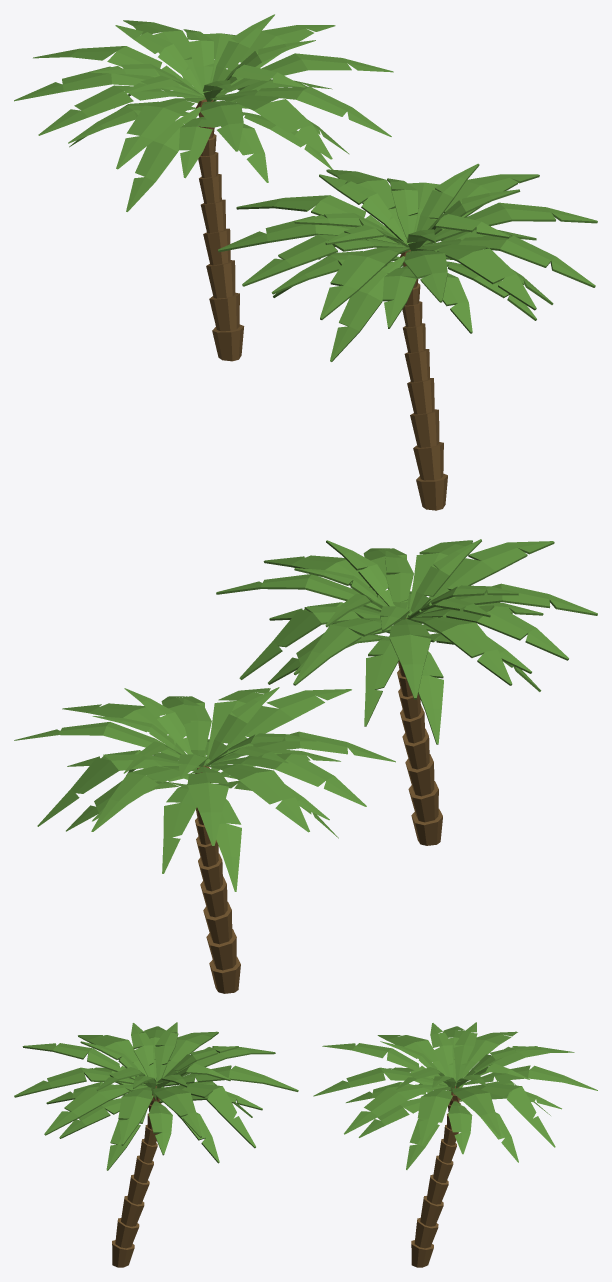
The model's file is LP Med Palm tree .fbx.
3 renders of one model, top to bottom at view 1: azimuth 30°, elevation 25°; view 2: azimuth 150°, elevation 25°; view 3: azimuth 270°, elevation 25°, orthographic. The views are drawn at different scales.
Visible parts, largest first — view 1: Palm Tree M T, Palm Tree M; view 2: Palm Tree M T, Palm Tree M; view 3: Palm Tree M T, Palm Tree M.
Part boxes in pixels (x1,y1,x2,y2): Palm Tree M T: (218, 163, 597, 510); Palm Tree M: (14, 14, 393, 361); Palm Tree M T: (216, 539, 597, 845); Palm Tree M: (14, 687, 395, 993); Palm Tree M T: (14, 1022, 298, 1267); Palm Tree M: (313, 1022, 597, 1267).
Size of the model in its own units: 1085 by 911 by 2258.
